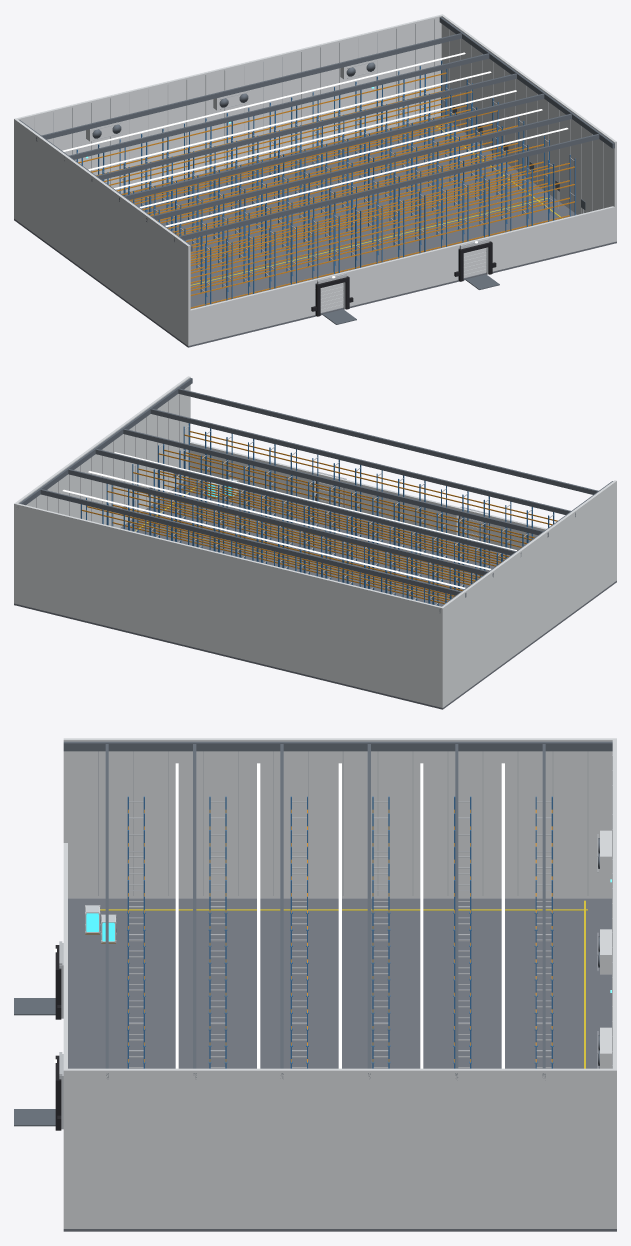
Rendered from coldroom_lite.glb.
The picture shows the model from 3 angles, top to bottom: view 1: azimuth 30°, elevation 25°; view 2: azimuth 150°, elevation 25°; view 3: azimuth 270°, elevation 25°; orthographic projection. The views are drawn at different scales.
Visible parts, largest first — view 1: Shell_WallPanels, Shell_Floor, Shell_RoofGirders, Rack_01_Beams, Device_CeilingLights, Rack_02_Beams, Rack_03_Beams, Rack_01_Frames, Rack_02_Frames, Rack_05_Beams, Rack_03_Frames, Rack_04_Beams (+11 smaller); view 2: Shell_WallPanels, Shell_RoofGirders, Shell_Floor, Rack_02_Beams, Rack_01_Beams, Rack_03_Beams, Rack_01_Frames, Rack_02_Frames, Device_CeilingLights, Rack_03_Frames, Rack_04_Beams, Rack_04_Frames (+3 smaller); view 3: Shell_WallPanels, Shell_Floor, Shell_RoofGirders, Device_CeilingLights, Shell_WallSeams, Device_Cooler_Body, Shell_FloorLines, Rack_02_Frames, Rack_04_Frames, Rack_01_Frames, Rack_05_Frames, Rack_06_Frames (+9 smaller).
Part boxes in pixels (x1=…): Shell_WallPanels: x1=14, y1=14, x2=616, y2=345; Shell_Floor: x1=14, y1=116, x2=616, y2=347; Shell_RoofGirders: x1=19, y1=17, x2=614, y2=251; Rack_01_Beams: x1=190, y1=163, x2=574, y2=308; Device_CeilingLights: x1=62, y1=52, x2=568, y2=226; Rack_02_Beams: x1=176, y1=144, x2=547, y2=288; Rack_03_Beams: x1=150, y1=125, x2=522, y2=263; Rack_01_Frames: x1=205, y1=155, x2=575, y2=305; Rack_02_Frames: x1=179, y1=136, x2=550, y2=296; Rack_05_Beams: x1=104, y1=91, x2=472, y2=220; Rack_03_Frames: x1=153, y1=117, x2=524, y2=272; Rack_04_Beams: x1=130, y1=110, x2=497, y2=235; Shell_WallPanels: x1=14, y1=376, x2=616, y2=707; Shell_RoofGirders: x1=19, y1=378, x2=612, y2=612; Shell_Floor: x1=14, y1=478, x2=616, y2=709; Rack_02_Beams: x1=158, y1=449, x2=531, y2=582; Rack_01_Beams: x1=184, y1=431, x2=557, y2=564; Rack_03_Beams: x1=133, y1=468, x2=506, y2=601; Rack_01_Frames: x1=183, y1=423, x2=554, y2=570; Rack_02_Frames: x1=158, y1=444, x2=528, y2=590; Device_CeilingLights: x1=62, y1=452, x2=516, y2=588; Rack_03_Frames: x1=132, y1=464, x2=502, y2=605; Rack_04_Beams: x1=107, y1=487, x2=480, y2=603; Rack_04_Frames: x1=106, y1=479, x2=477, y2=604; Shell_WallPanels: x1=63, y1=738, x2=616, y2=1228; Shell_Floor: x1=63, y1=898, x2=616, y2=1231; Shell_RoofGirders: x1=63, y1=741, x2=612, y2=1078; Device_CeilingLights: x1=175, y1=763, x2=504, y2=1068; Shell_WallSeams: x1=98, y1=751, x2=612, y2=1068; Device_Cooler_Body: x1=600, y1=830, x2=611, y2=1068; Shell_FloorLines: x1=100, y1=900, x2=587, y2=1068; Rack_02_Frames: x1=208, y1=796, x2=227, y2=1068; Rack_04_Frames: x1=371, y1=796, x2=390, y2=1068; Rack_01_Frames: x1=127, y1=796, x2=145, y2=1068; Rack_05_Frames: x1=453, y1=796, x2=471, y2=1068; Rack_06_Frames: x1=534, y1=796, x2=553, y2=1068.
Size of the model in its own units: 54 by 12.2 by 41.4.
